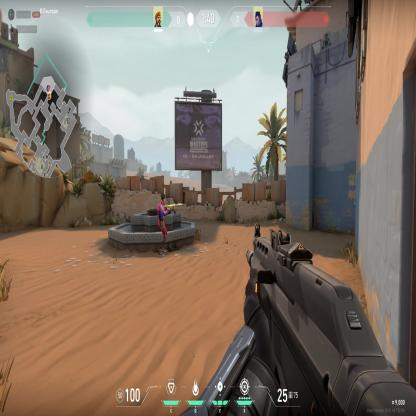enemy: (156, 194, 170, 258)
